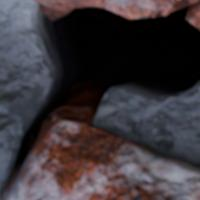brick: (2, 119, 199, 199)
broken_brick: (32, 0, 197, 18), (189, 5, 199, 26)
crack: (0, 0, 199, 198)
